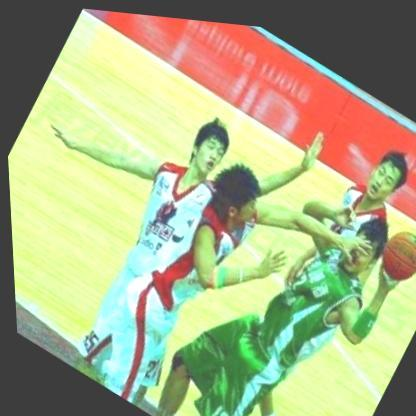basketball: (375, 214, 416, 274)
